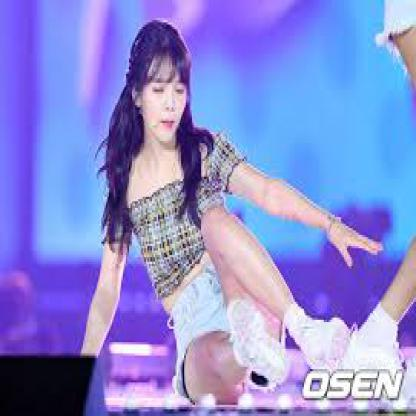Fall_Down: (79, 25, 388, 396)
